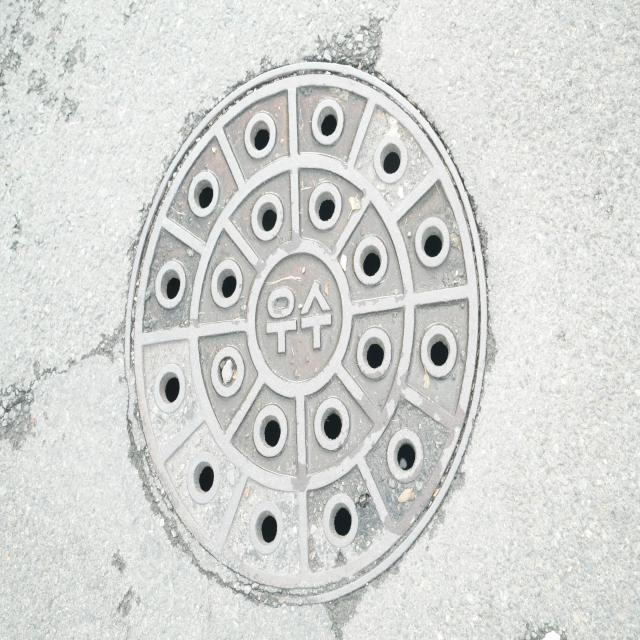manhole: (115, 62, 494, 612)
